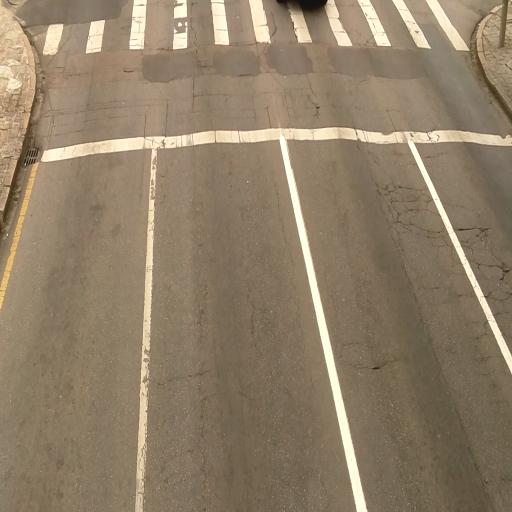car: (275, 0, 331, 10)
